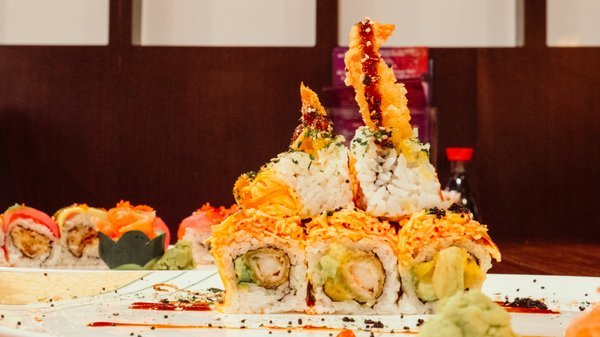burger: (442, 148, 478, 221)
sushi: (179, 18, 507, 316)
